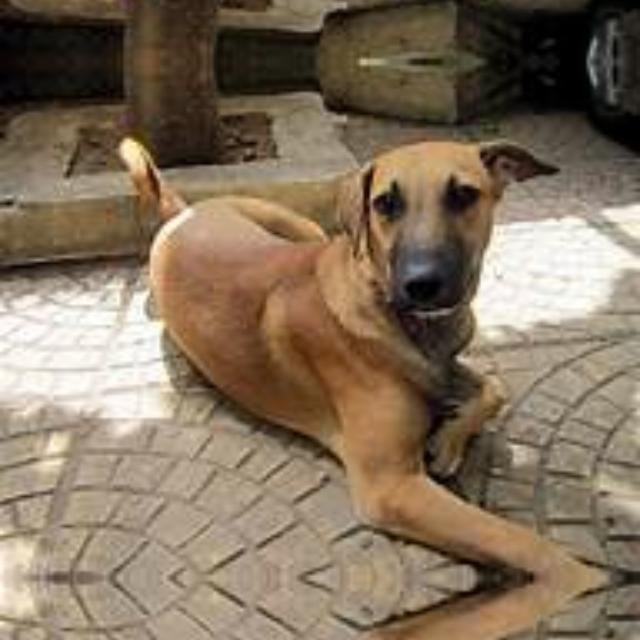dog: (141, 135, 615, 578), (141, 577, 615, 640)
